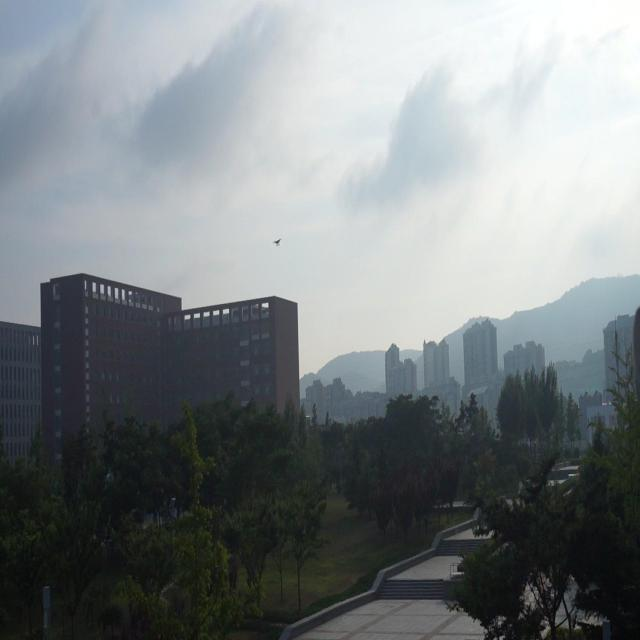drone: (271, 233, 284, 250)
